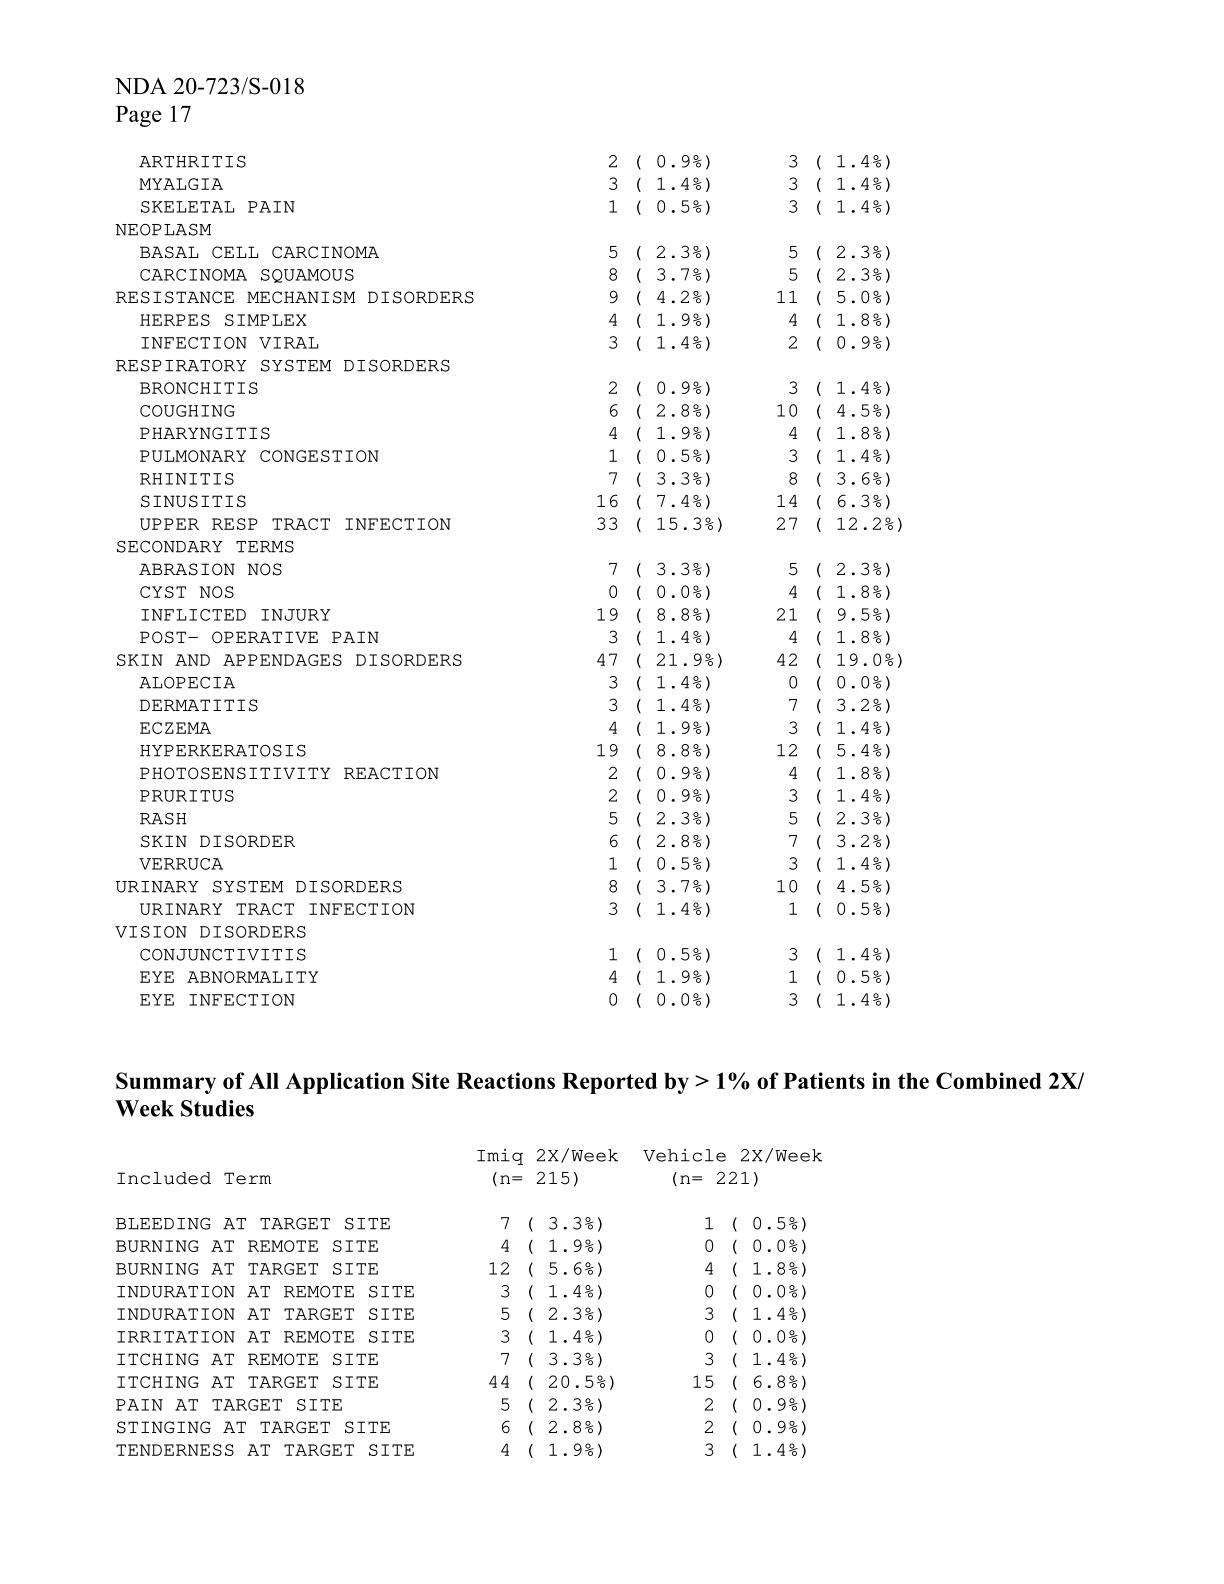nolines: (111, 149, 903, 1009), (113, 1140, 823, 1459)
